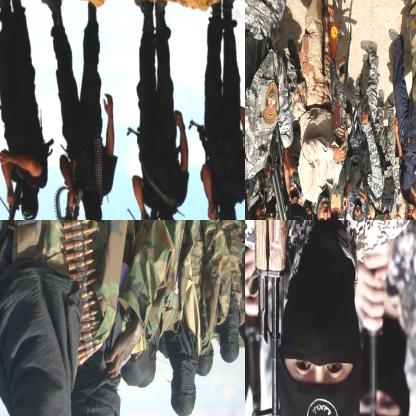rifle: (250, 220, 386, 415), (268, 130, 314, 219), (0, 181, 29, 219), (53, 186, 82, 219), (355, 191, 373, 219), (201, 203, 220, 219), (341, 199, 351, 219)
